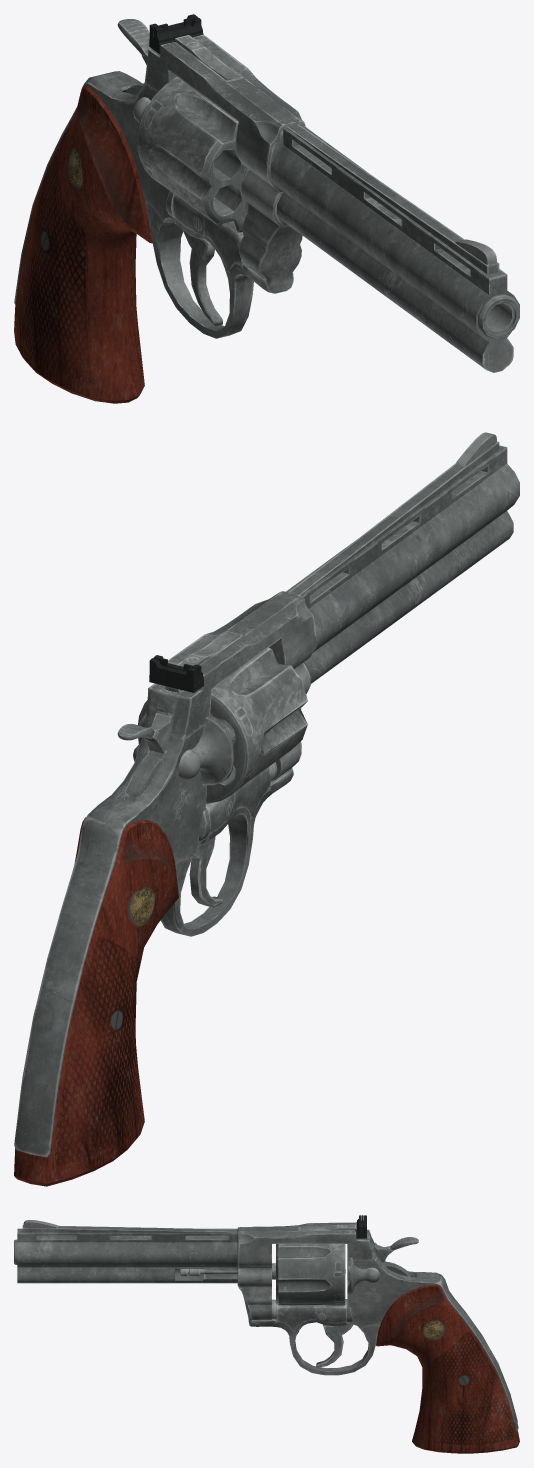
Rendered from colt python.fbx.
The picture shows the model from 3 angles, top to bottom: view 1: azimuth 30°, elevation 25°; view 2: azimuth 150°, elevation 25°; view 3: azimuth 270°, elevation 25°; orthographic projection. The views are drawn at different scales.
Visible parts, largest first — view 1: python; view 2: python; view 3: python.
Part boxes in pixels (<box>): python: <box>14,14,519,403</box>; python: <box>14,432,519,1186</box>; python: <box>14,1215,519,1453</box>.
Bounding box in the file's own units: 136 × 998 × 485.
1 material, 1 textured.
